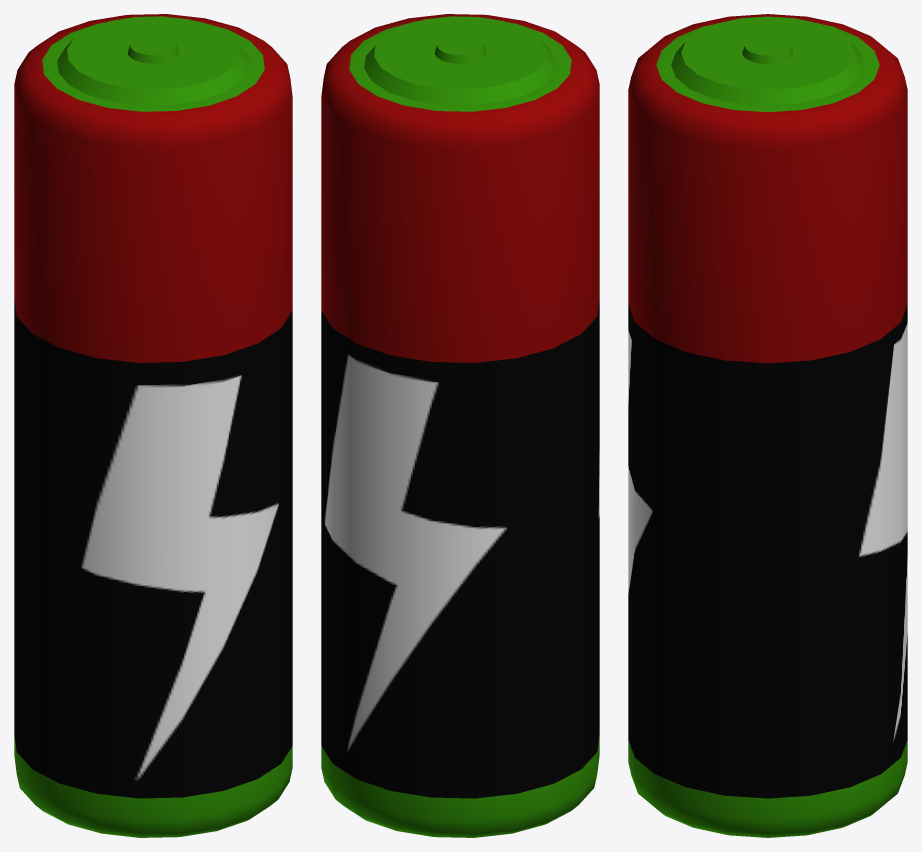
The model's file is AA-battery.FBX.
3 renders of one model, left to right at view 1: azimuth 30°, elevation 25°; view 2: azimuth 150°, elevation 25°; view 3: azimuth 270°, elevation 25°, orthographic.
Parts seen in each view (by area): view 1: AA-battery; view 2: AA-battery; view 3: AA-battery.
Boxes of the visible parts, x1=… form: AA-battery: x1=14, y1=14, x2=292, y2=837; AA-battery: x1=321, y1=14, x2=599, y2=837; AA-battery: x1=628, y1=14, x2=907, y2=837.
Size of the model in its own units: 1.2 by 3.51 by 1.2.
Materials: 3 (1 with a texture image).
